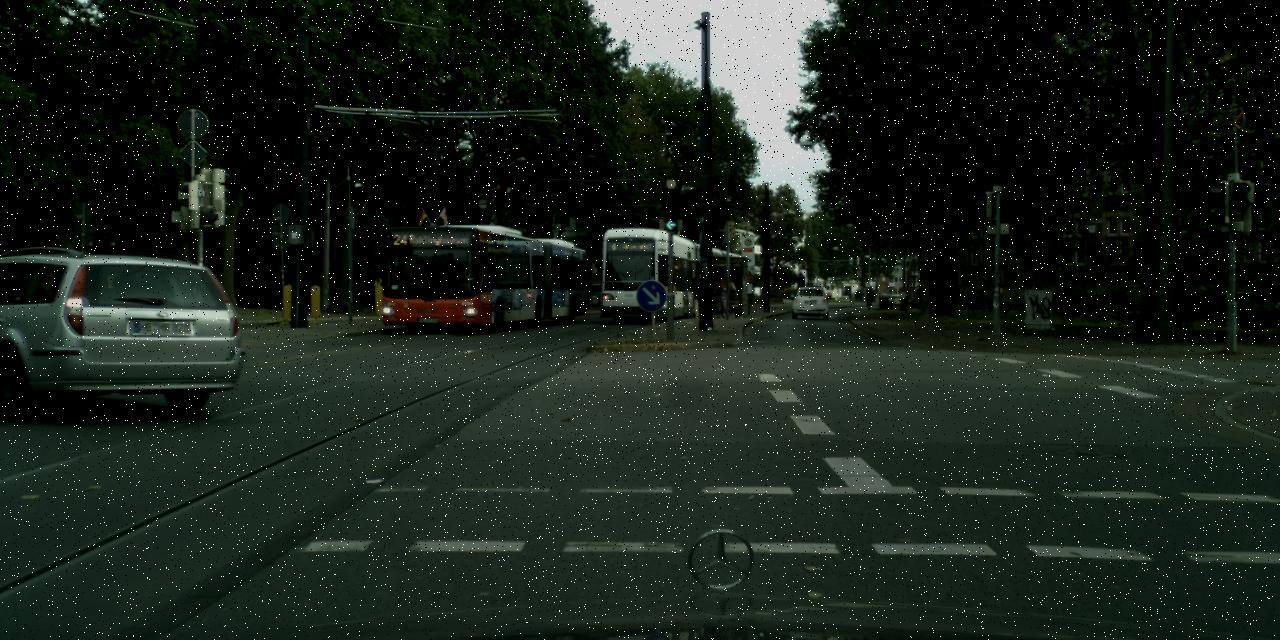ped: (712, 278, 728, 318), (690, 270, 700, 321), (948, 283, 958, 309), (915, 284, 925, 309), (865, 285, 873, 305), (714, 294, 716, 308)
